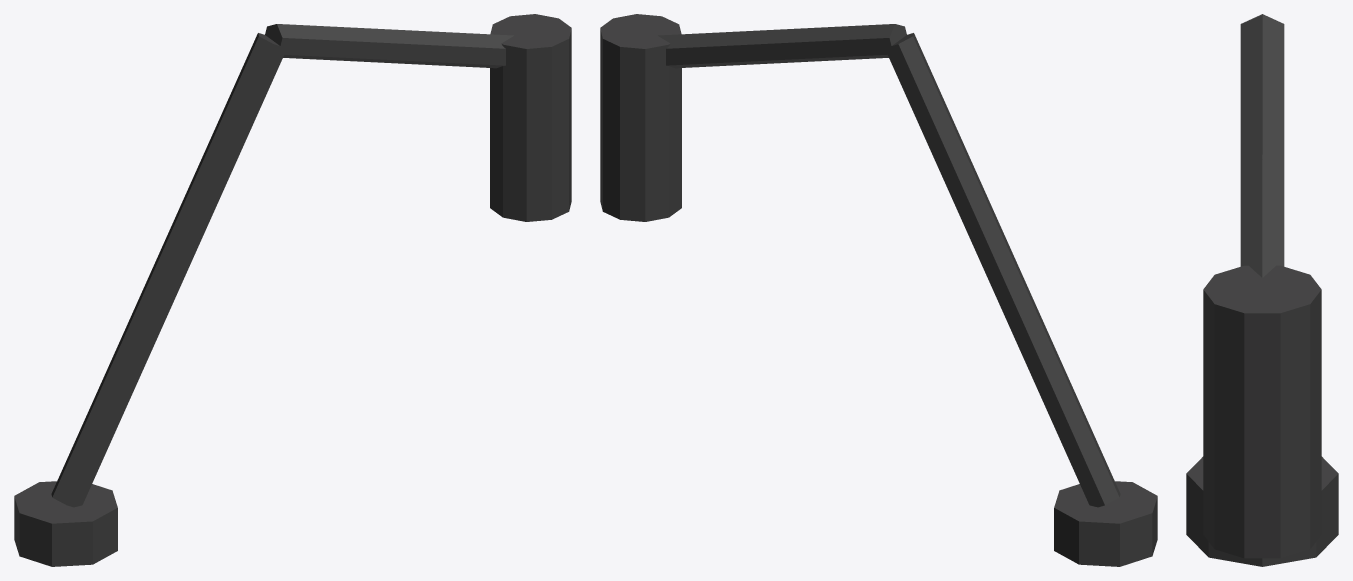
3 views of the same model, side by side, from view 1: azimuth 30°, elevation 25°; view 2: azimuth 150°, elevation 25°; view 3: azimuth 270°, elevation 25° (orthographic). The views are drawn at different scales.
Parts seen in each view (by area): view 1: Arm, Microphone, Arm.001, Clamp; view 2: Arm, Microphone, Arm.001, Clamp; view 3: Microphone, Arm.001, Clamp.
Boxes of the visible parts, bbox=[...] form: Arm: bbox=[51, 33, 286, 507]; Microphone: bbox=[490, 14, 571, 221]; Arm.001: bbox=[265, 24, 513, 68]; Clamp: bbox=[14, 481, 117, 566]; Arm: bbox=[888, 33, 1120, 507]; Microphone: bbox=[600, 14, 681, 221]; Arm.001: bbox=[658, 24, 906, 68]; Clamp: bbox=[1054, 481, 1157, 566]; Microphone: bbox=[1203, 265, 1321, 558]; Arm.001: bbox=[1240, 15, 1284, 277]; Clamp: bbox=[1186, 456, 1338, 566].
Size of the model in its own units: 52.83 by 43.44 by 9.
